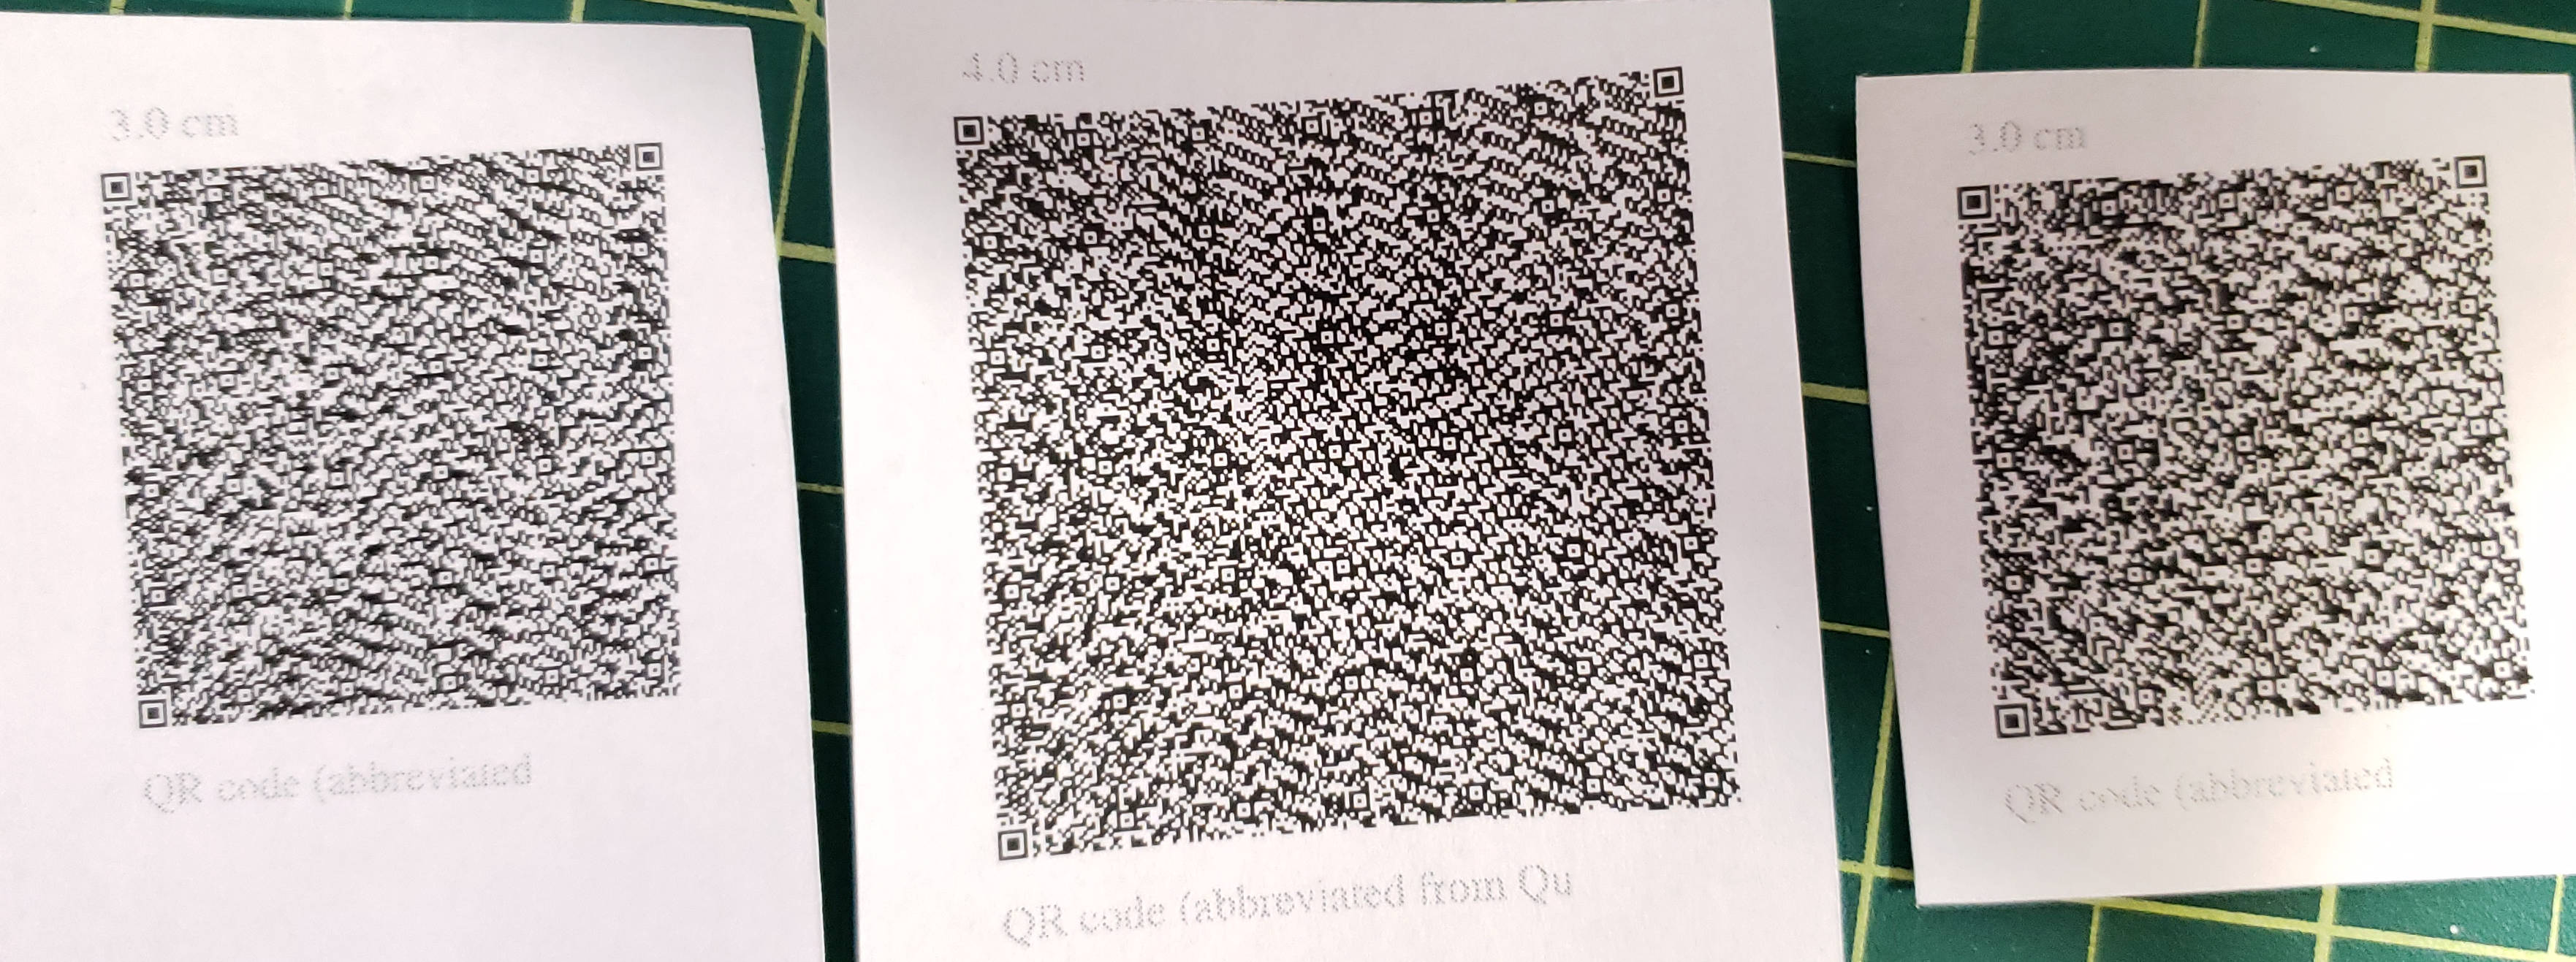QR_CODE: (910, 26, 1781, 916), (53, 46, 710, 757), (1934, 113, 2553, 834)
